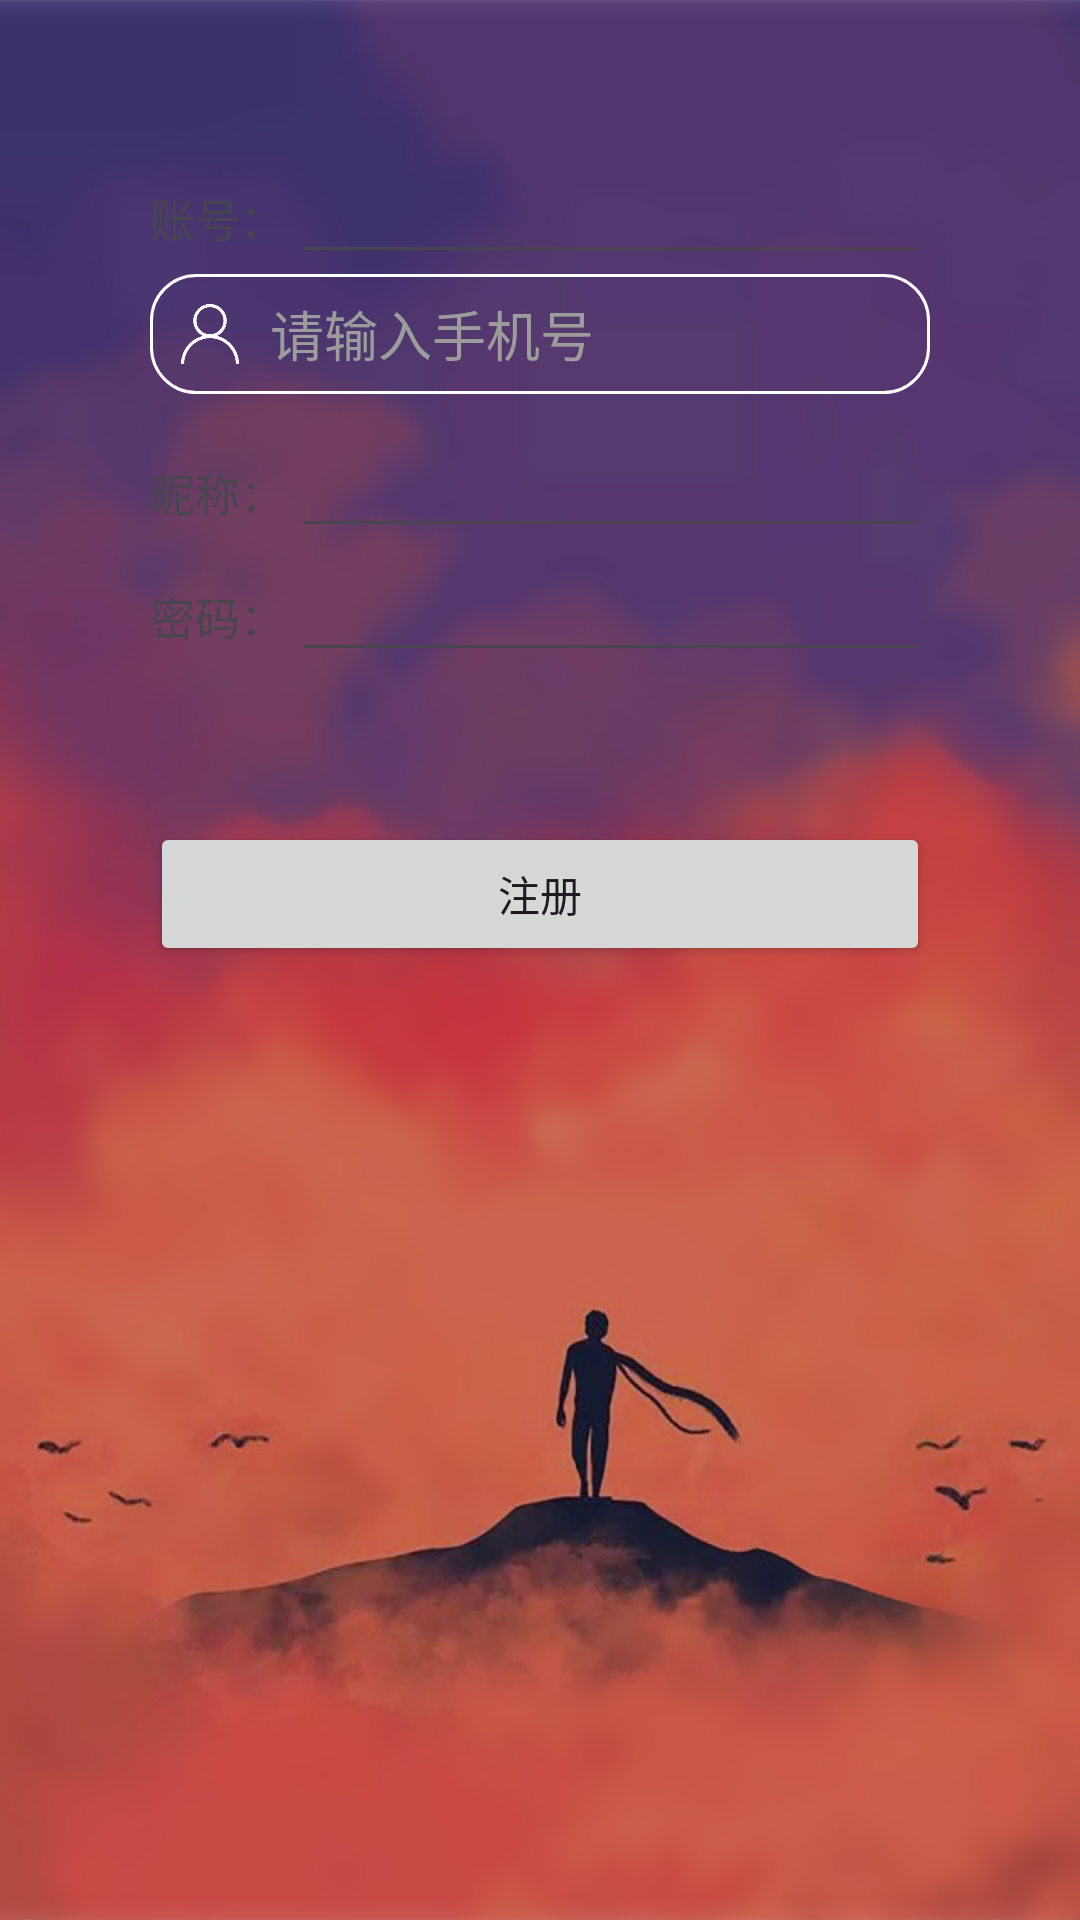

Screen size 1080px x 1920px. Icon name, then its box in pixels as (x1, y1, x2, y2):
account: (181, 304, 239, 364)
